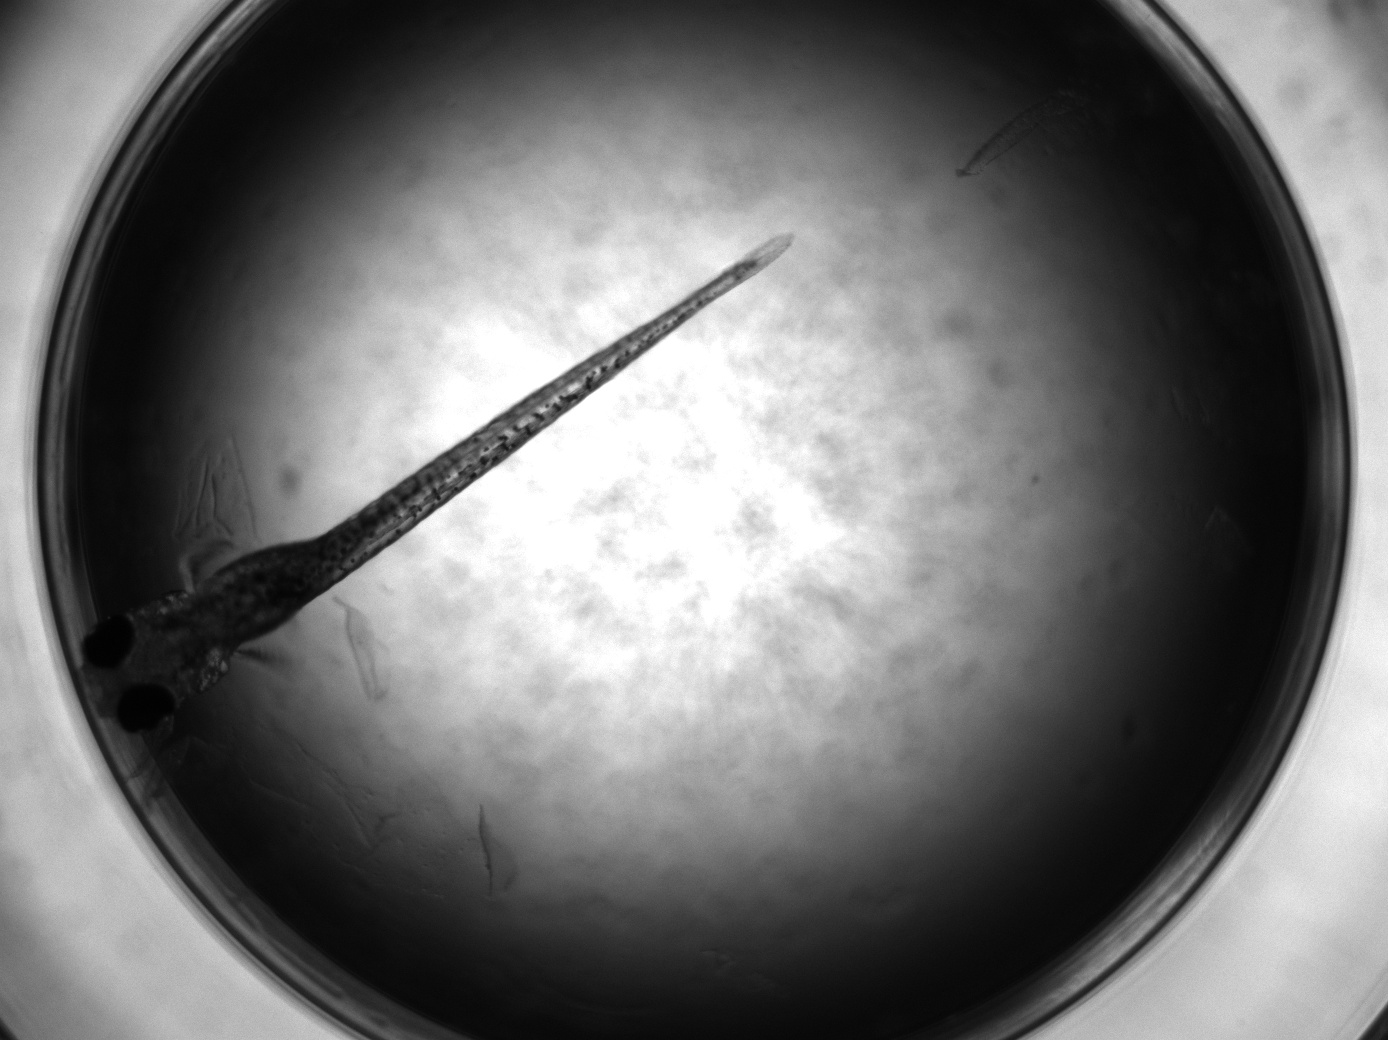embryo: (81, 234, 796, 735)
eye: (117, 683, 178, 733), (83, 614, 137, 671)
yolksac: (197, 537, 361, 642)
